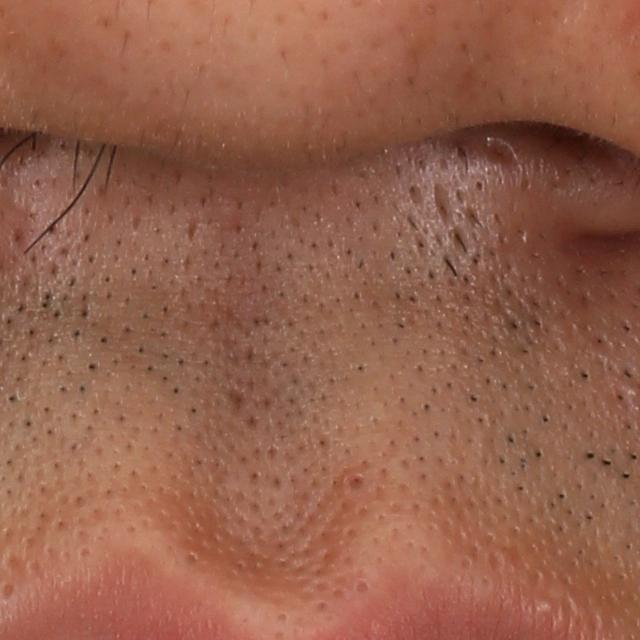comedo: (340, 472, 365, 496)
